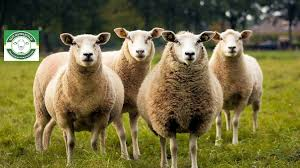koyun: (44, 31, 119, 165), (156, 30, 222, 168), (212, 25, 265, 144), (110, 26, 165, 78)
